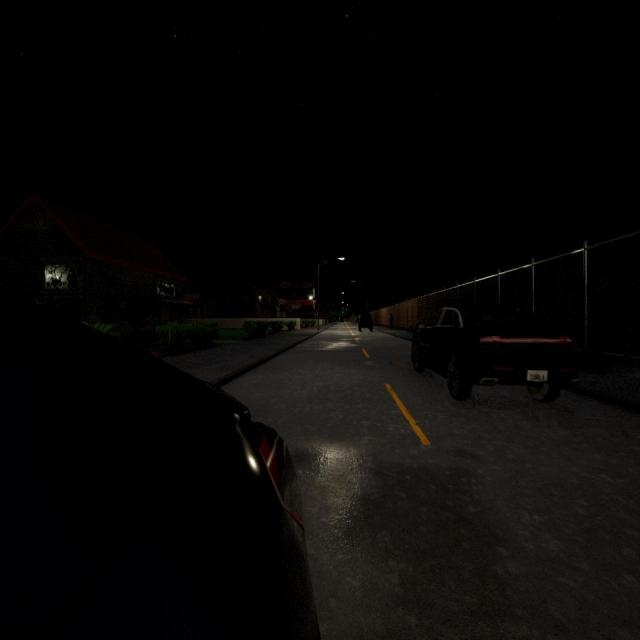Pedestrian: (388, 311, 395, 330)
Vehicle: (0, 306, 318, 640), (412, 301, 580, 403), (358, 310, 374, 332)
